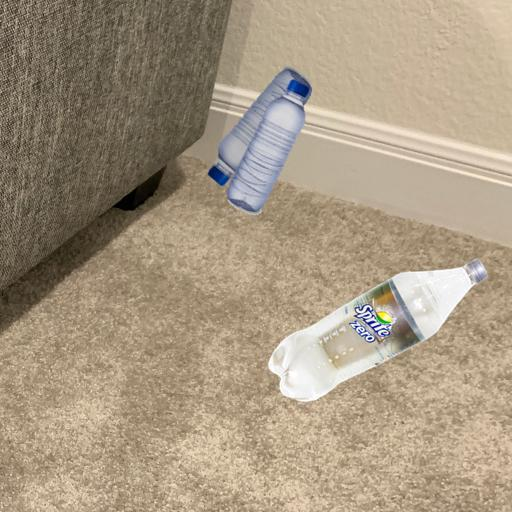bottle: (244, 329, 493, 337), (198, 138, 325, 139)
